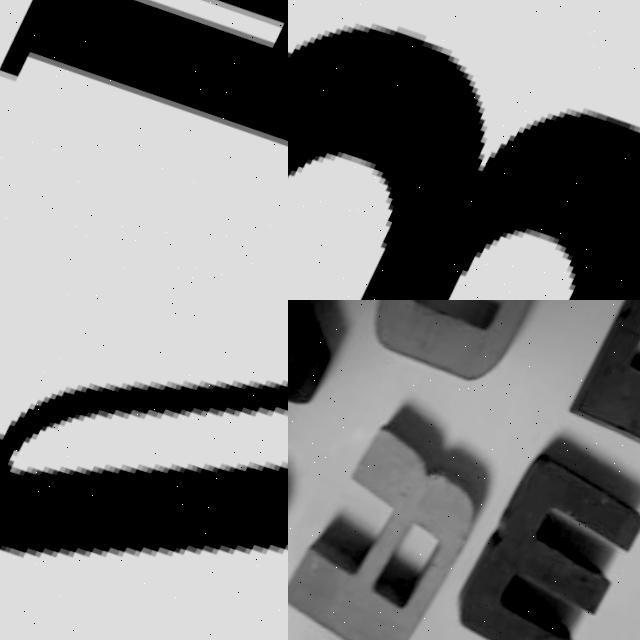3: (288, 0, 640, 300)
C: (366, 300, 588, 391)
E: (568, 300, 640, 478)
H: (0, 0, 288, 264)
R: (288, 412, 512, 640)
U: (0, 300, 288, 640)
W: (447, 444, 640, 640)
